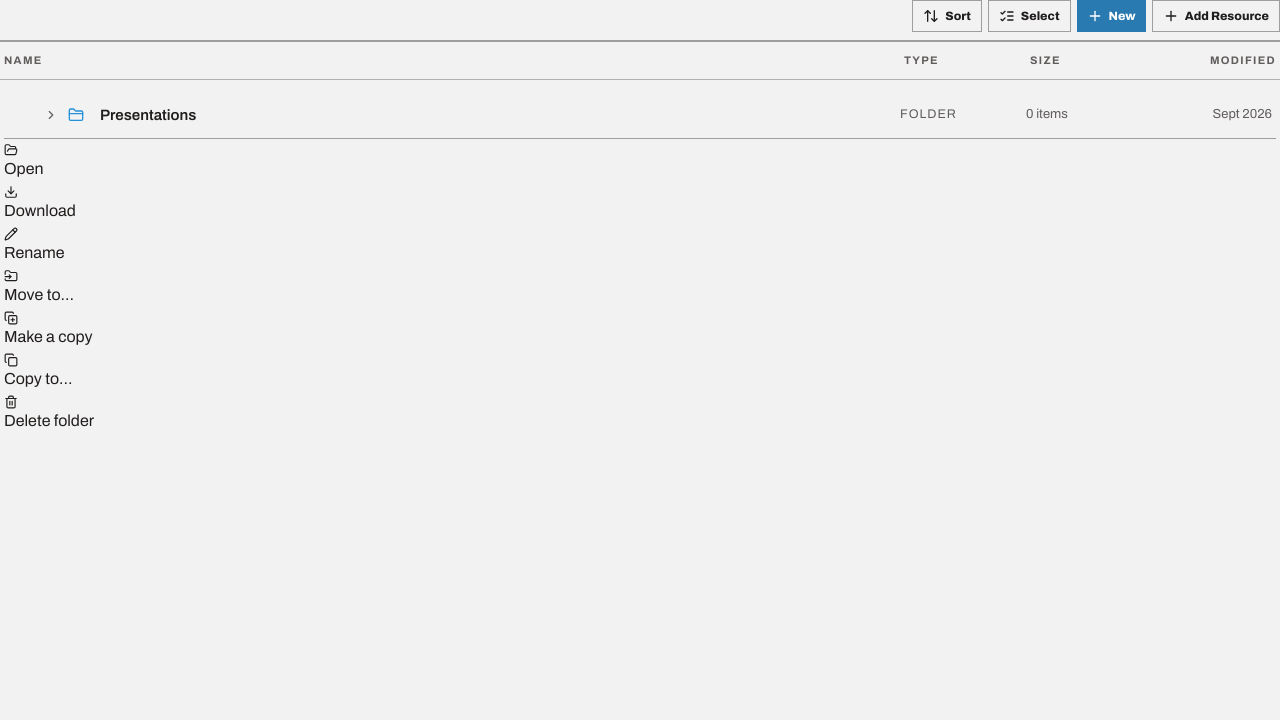
Test: DriveBrowser › offers every category as a destination (Copy)
The width and height of the screenshot is (1280, 720).
// A modified click selects rather than opening, which brings up the bar.
Click the text "Presentations" at [148, 114], box top-left (100, 106), bottom-right (196, 122)
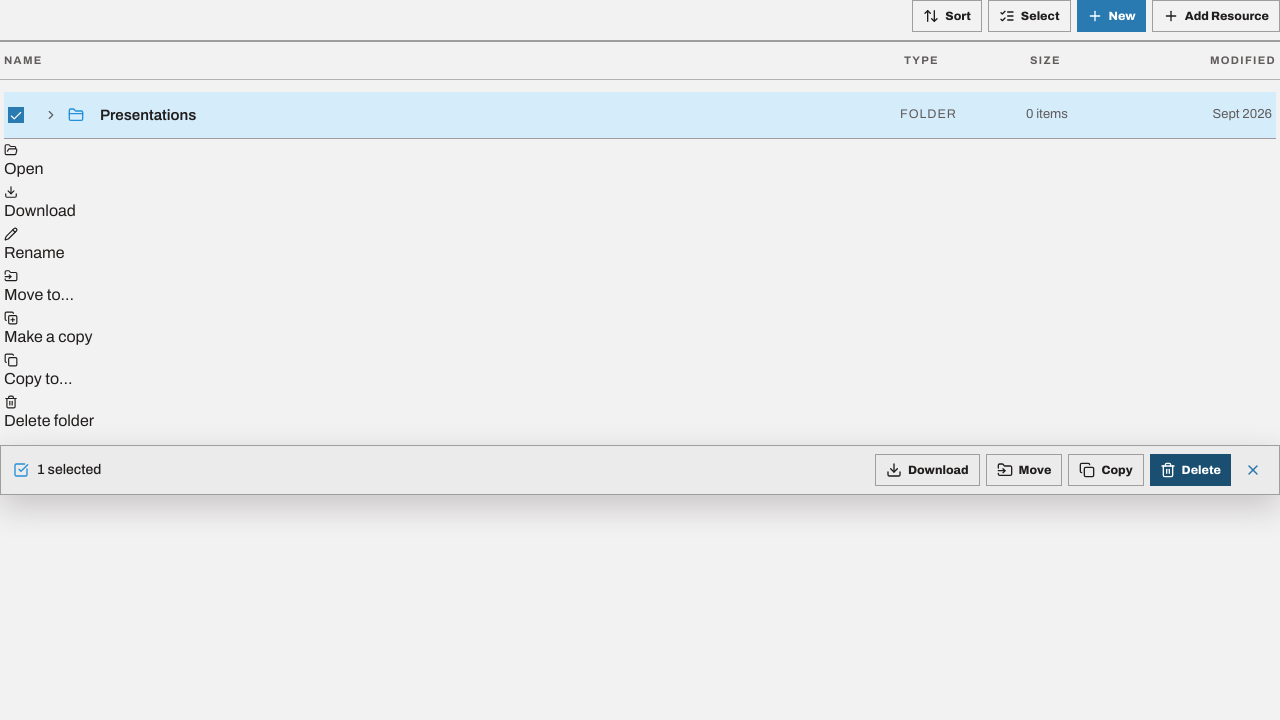
Click the button "Copy" at [1106, 470], box top-left (1068, 454), bottom-right (1144, 486)
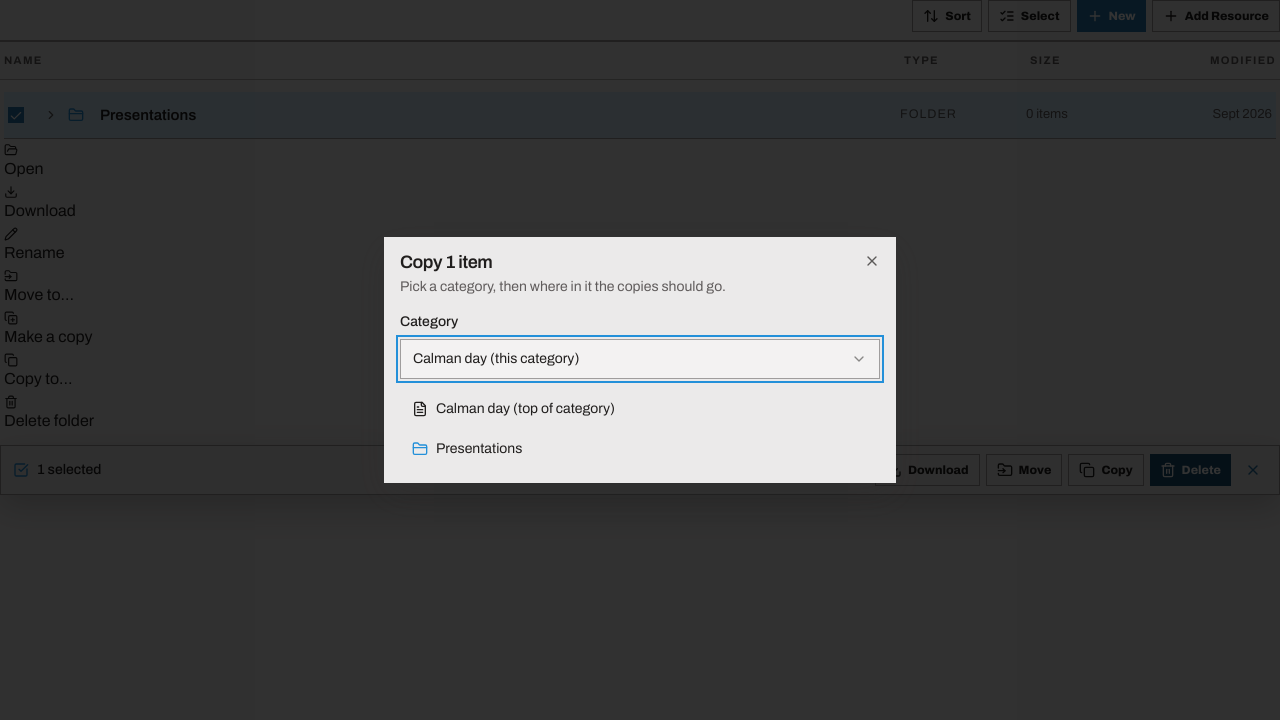
Expected: the dialog does not show "Past papers", top-left (384, 237), bottom-right (896, 483)
Expected: the dropdown labelled "category" shows "Calman day", top-left (400, 339), bottom-right (880, 379)
Expected: the dialog shows "Calman day (top of category)", top-left (384, 237), bottom-right (896, 483)
